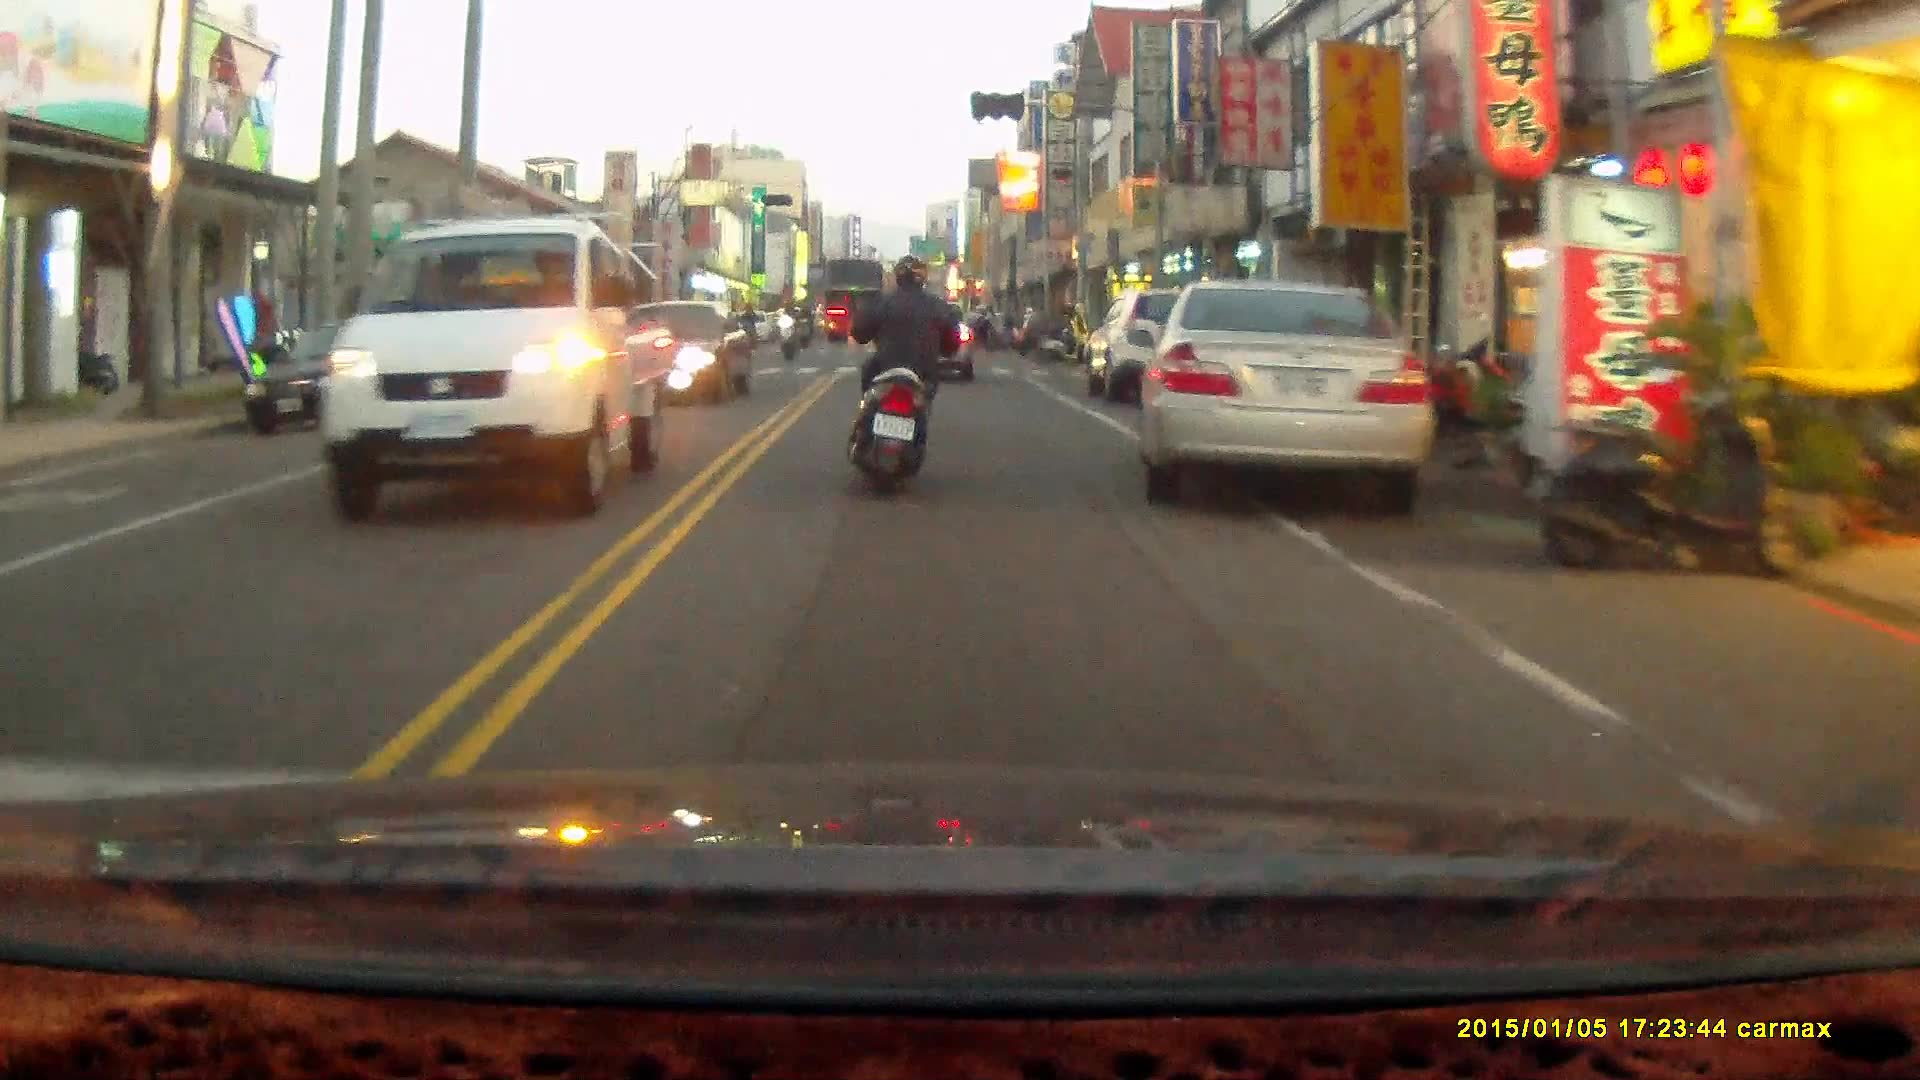pedestrian: (1064, 295, 1087, 366)
rider: (848, 254, 969, 497), (774, 302, 799, 363), (794, 296, 815, 347)
vehicle: (318, 212, 673, 519), (1135, 272, 1434, 510), (245, 317, 440, 436), (1079, 286, 1243, 408), (819, 250, 890, 335)
